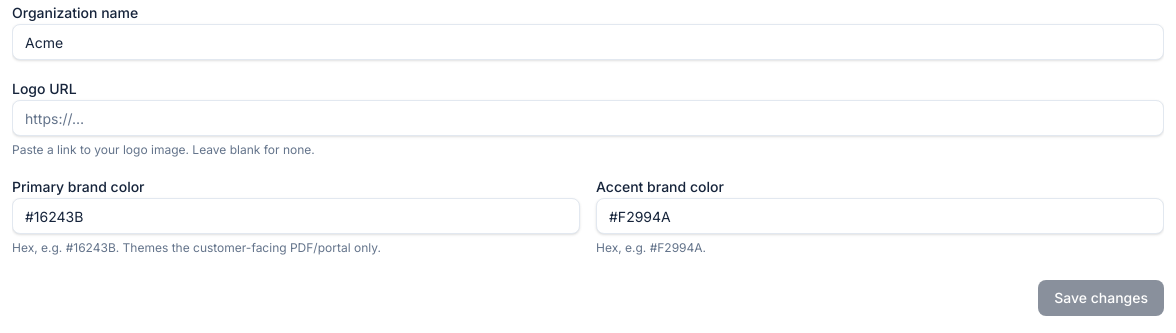
CompanyProfileForm (Step 8) › blocks submit and shows an inline error for an invalid hex color
This screenshot has width=1176, height=333.
Replace the text in the field labelled "Primary brand color" with "blue": (296, 216) [12,198,580,234]
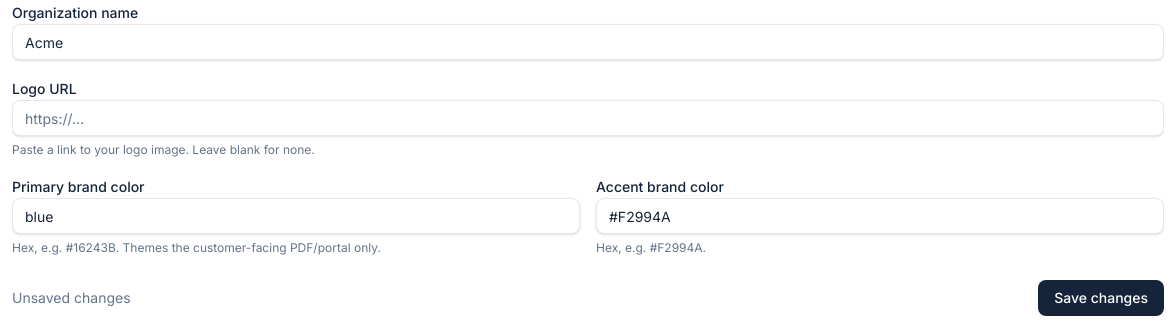
Click the button "Save changes": (1101, 298) [1038,280,1164,316]
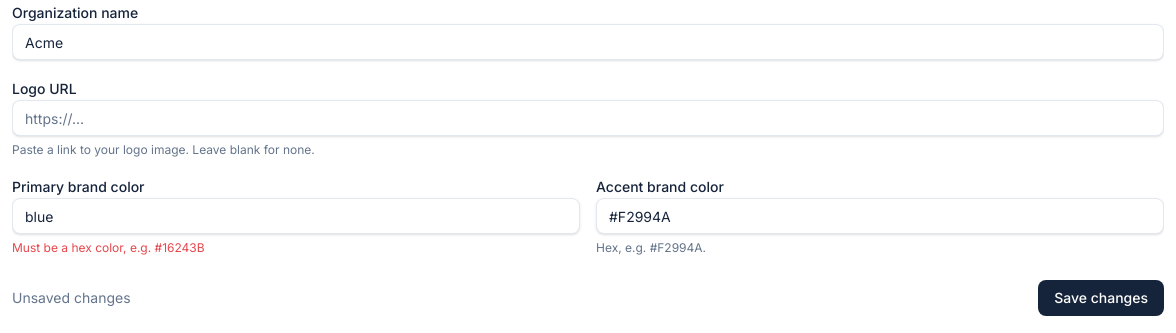
Expected: the text "Must be a hex color, e.g. #16243B" is shown, [12,240,205,255]
